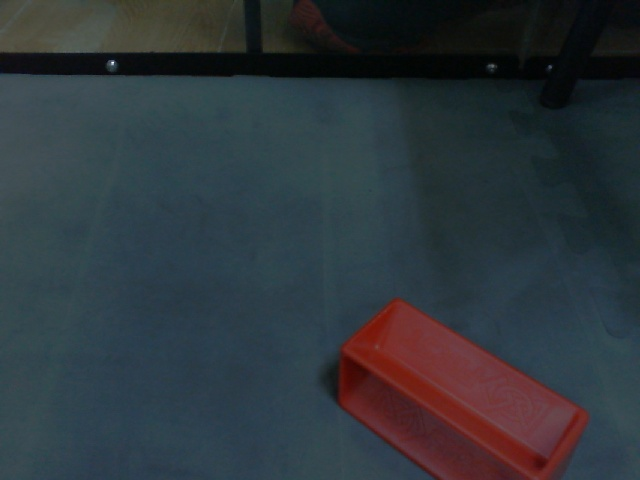RedSample: (333, 297, 592, 480)
